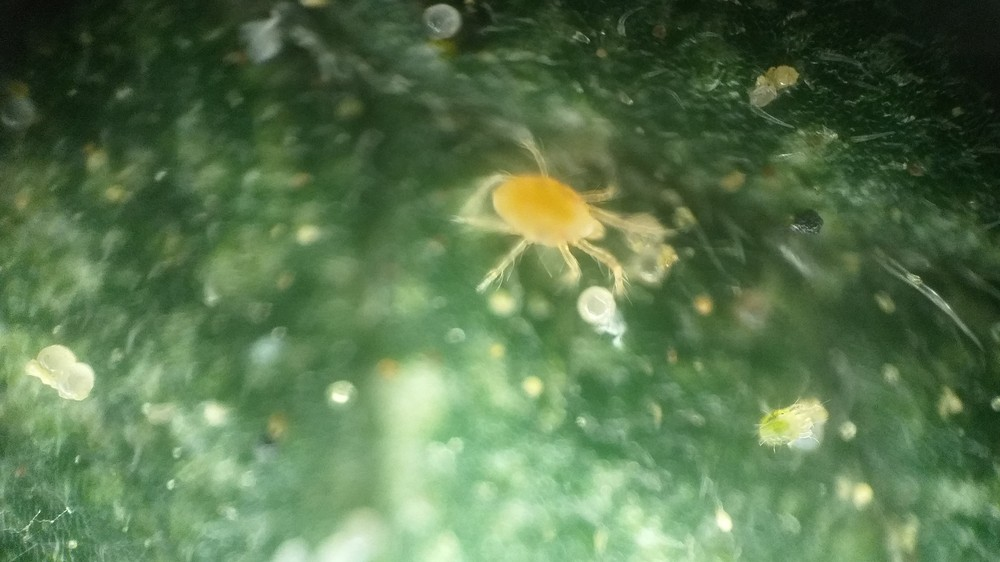Aracnido Rojo: (443, 141, 658, 319), (741, 381, 835, 466)
